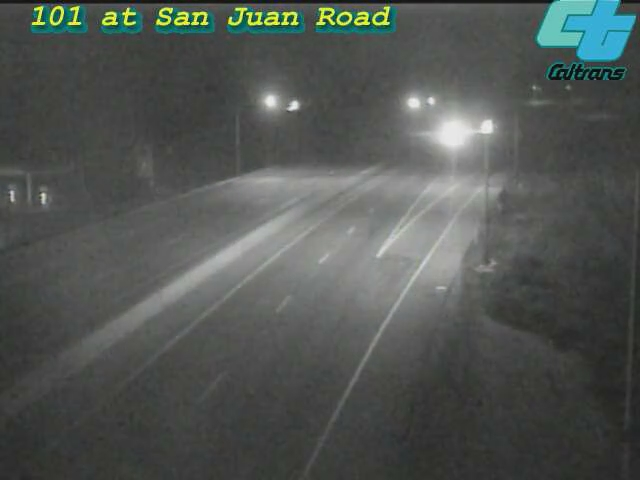vehicle: (429, 107, 479, 157), (459, 102, 509, 152)
